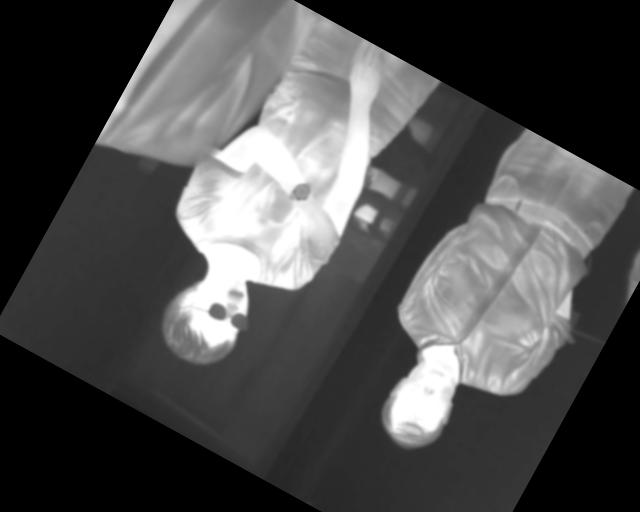face: (147, 252, 266, 379), (368, 344, 475, 463)
